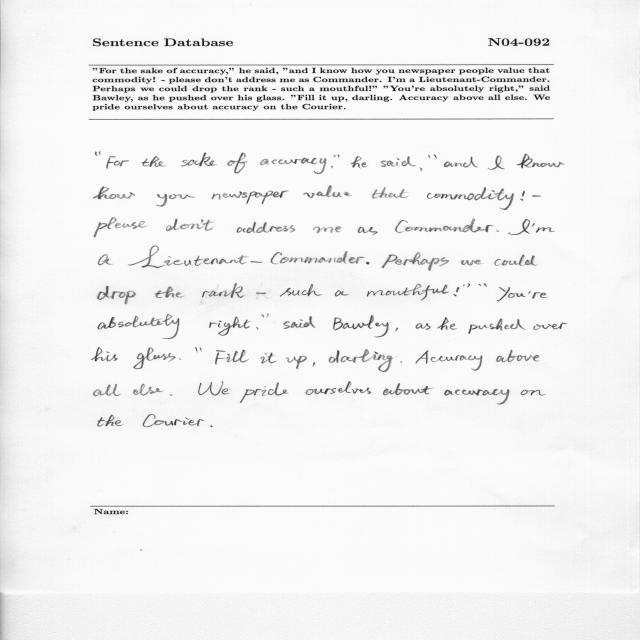word: (128, 246, 365, 268), (98, 314, 180, 339), (329, 349, 393, 372), (395, 218, 493, 233), (416, 350, 483, 371), (367, 284, 449, 300), (382, 252, 449, 271), (333, 315, 389, 337), (166, 219, 246, 233), (94, 218, 147, 238), (260, 158, 326, 174), (240, 383, 289, 403), (444, 389, 509, 404), (133, 348, 176, 370), (468, 318, 526, 334), (474, 187, 514, 210), (444, 155, 505, 170), (306, 382, 372, 395), (142, 414, 204, 427), (209, 317, 251, 336), (517, 154, 564, 169), (97, 286, 136, 304), (202, 283, 244, 298), (383, 383, 432, 395), (303, 186, 351, 198), (246, 222, 296, 233), (93, 187, 135, 200), (247, 191, 289, 204), (280, 284, 322, 297), (496, 350, 540, 362), (215, 350, 249, 365), (156, 194, 194, 207), (181, 153, 216, 167), (494, 255, 537, 266), (227, 153, 248, 174), (497, 287, 526, 302), (199, 382, 230, 396), (372, 187, 408, 199), (283, 316, 316, 329), (381, 156, 416, 167), (91, 348, 118, 362), (93, 384, 121, 397), (508, 219, 530, 235), (133, 384, 163, 395), (427, 193, 474, 200), (154, 287, 183, 298), (98, 415, 123, 427), (106, 156, 129, 169), (212, 192, 248, 200), (285, 356, 307, 369), (141, 156, 166, 167), (534, 322, 568, 330), (437, 317, 457, 330), (531, 223, 555, 233), (351, 156, 368, 168), (313, 226, 341, 233), (419, 155, 430, 171), (98, 255, 113, 266), (261, 353, 276, 364), (358, 227, 378, 235), (528, 291, 547, 299), (521, 390, 546, 396), (461, 260, 481, 266), (256, 315, 264, 330), (415, 323, 431, 330), (335, 290, 349, 297), (453, 287, 459, 296), (520, 191, 525, 201), (195, 348, 202, 353), (479, 283, 487, 287), (334, 154, 340, 158), (464, 284, 470, 288), (96, 152, 101, 156), (256, 292, 266, 294), (532, 195, 541, 197), (434, 154, 437, 159), (395, 328, 398, 332), (313, 362, 315, 367), (366, 262, 369, 265), (496, 230, 499, 232), (267, 314, 269, 317), (170, 394, 173, 396), (210, 426, 213, 428), (331, 166, 333, 168), (179, 358, 181, 360), (400, 362, 402, 363)
